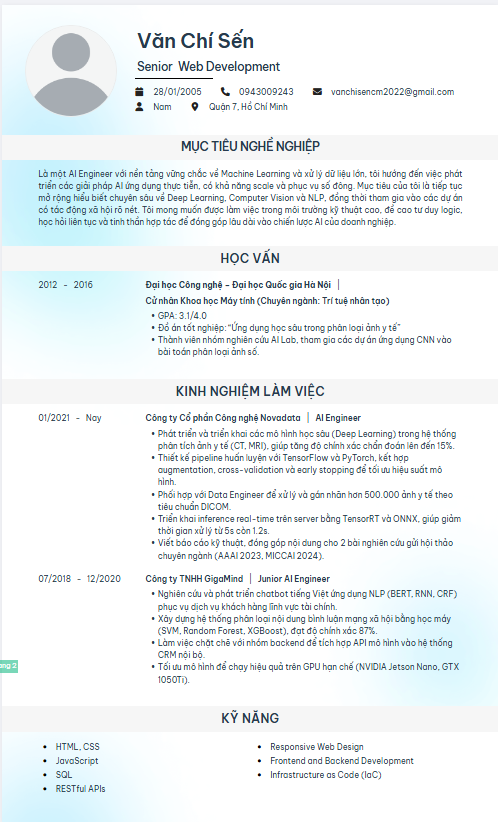address: (187, 99, 292, 122)
gpa: (147, 309, 212, 321)
level: (134, 54, 174, 76)
position: (176, 57, 285, 75)
skill: (33, 701, 431, 802)
